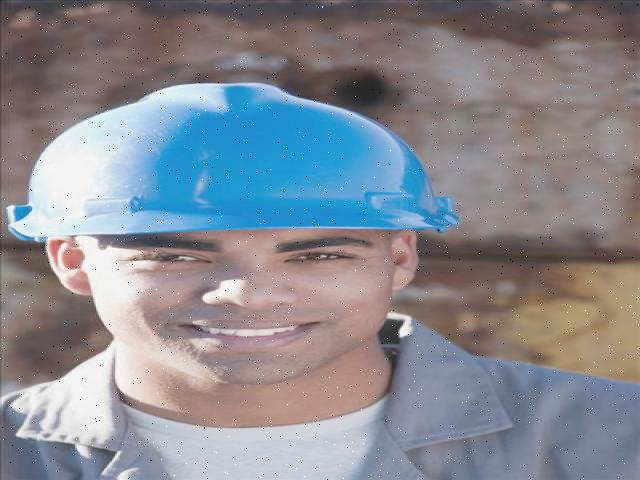Helmet: (0, 73, 470, 252)
